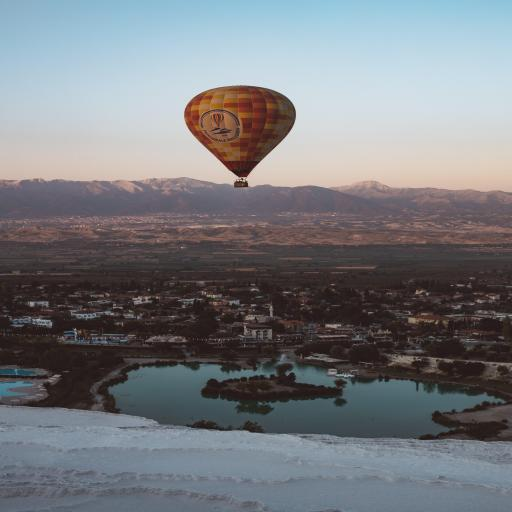hot air ballon: (184, 86, 297, 188)
